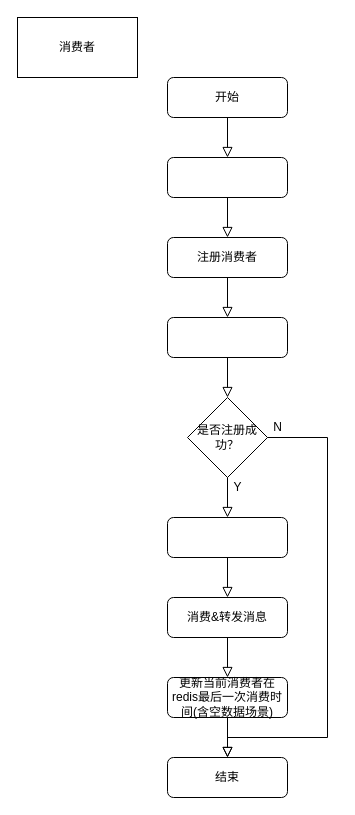
This 355x815 diagram has some shape labels left out. Each missing label, with the centre of its shape:
在Redis新增生成时间: (227,537)
推送成功/失败消息至钉钉: (227,337)
获取线上MQ注册GROUP信息: (227,177)
